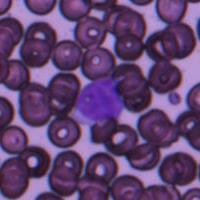L: (72, 76, 123, 124)
